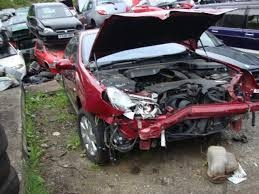Broken-glass: (104, 87, 158, 119)
Smashed: (89, 74, 259, 146)
